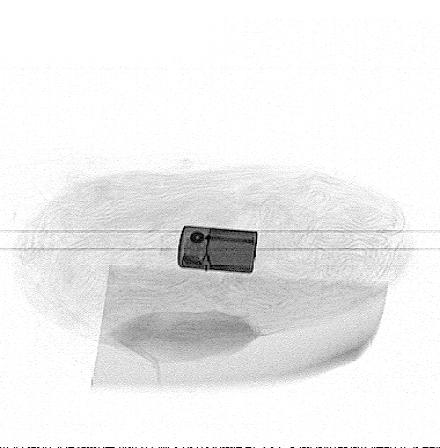Lighter: (178, 226, 259, 274)
